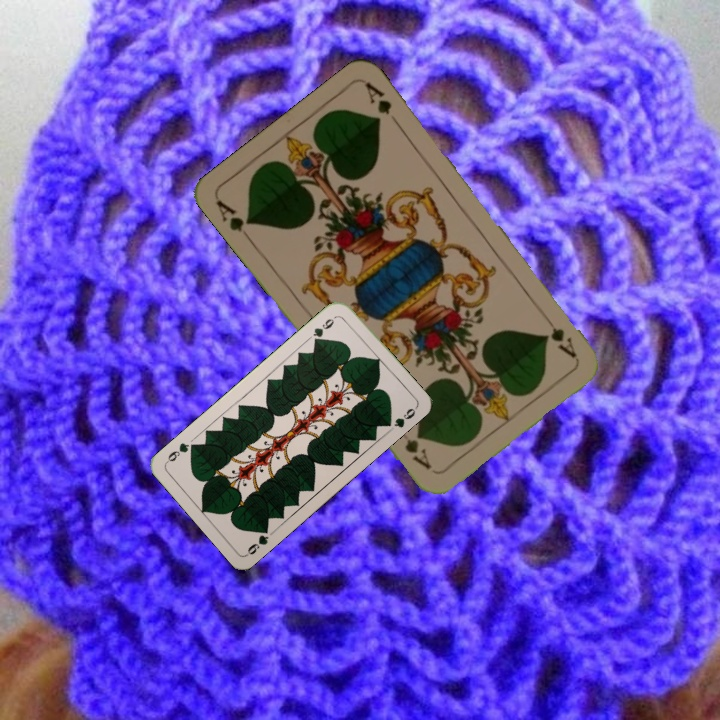G9: (243, 522, 271, 558), (309, 314, 337, 346)
GA: (212, 195, 255, 246), (541, 310, 579, 361)
